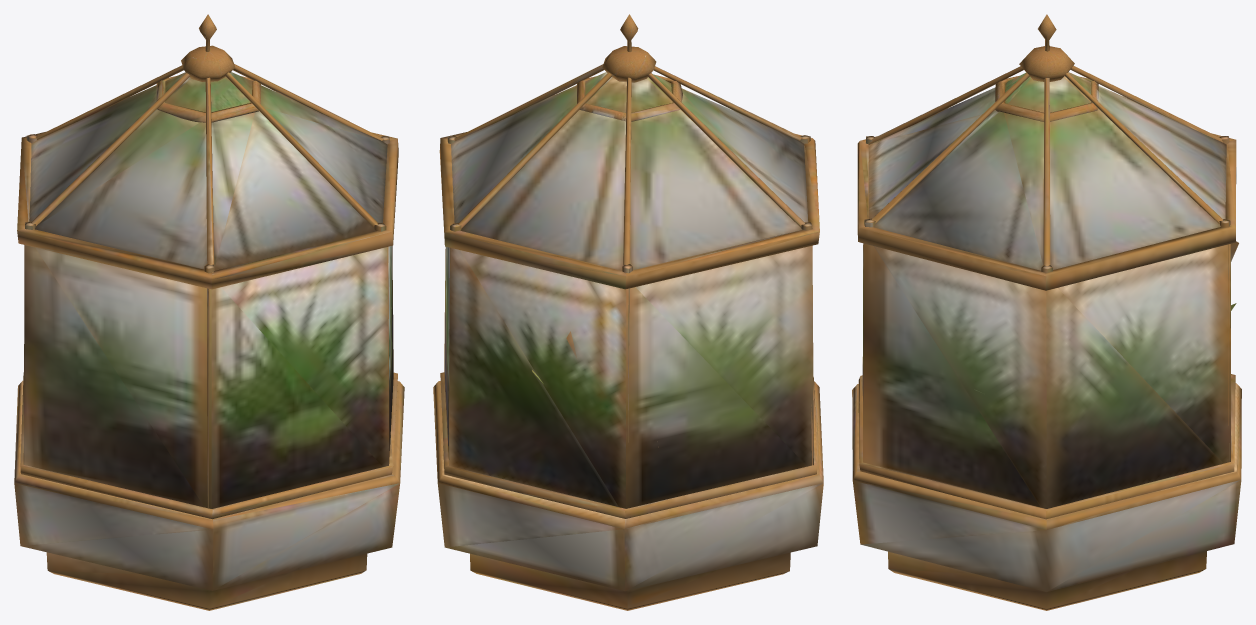
Rendered from keepsake-terrarium.glb.
3 renders of one model, left to right at view 1: azimuth 30°, elevation 25°; view 2: azimuth 150°, elevation 25°; view 3: azimuth 270°, elevation 25°, orthographic.
Parts seen in each view (by area): view 1: keepsake-terrarium; view 2: keepsake-terrarium; view 3: keepsake-terrarium.
Boxes of the visible parts, box(x1,y1,x2,y2) form: keepsake-terrarium: box(14, 14, 404, 610); keepsake-terrarium: box(433, 14, 823, 610); keepsake-terrarium: box(852, 14, 1241, 610).
Size of the model in its own units: 0.4692 by 0.6 by 0.4063.
Materials: 1 (1 with a texture image).
